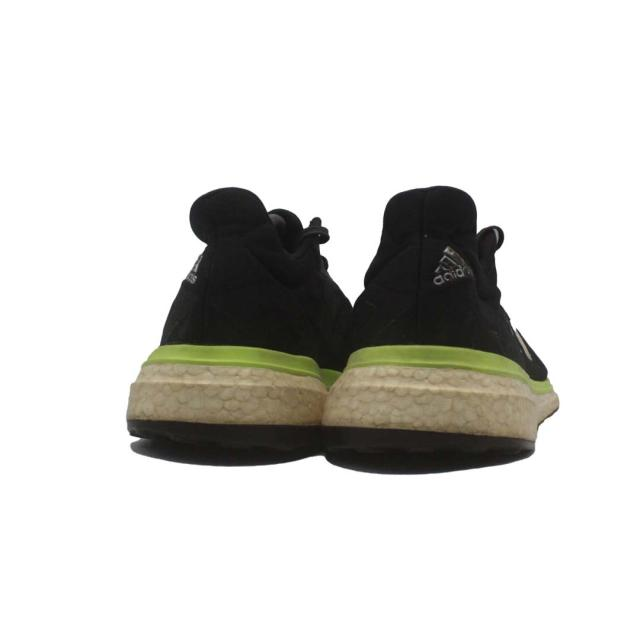heel: (153, 187, 312, 352), (352, 189, 505, 354)
midsole: (332, 354, 556, 452), (126, 349, 334, 444)
